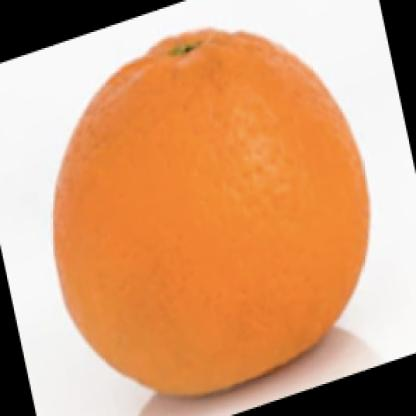fresh: (55, 31, 371, 398)
